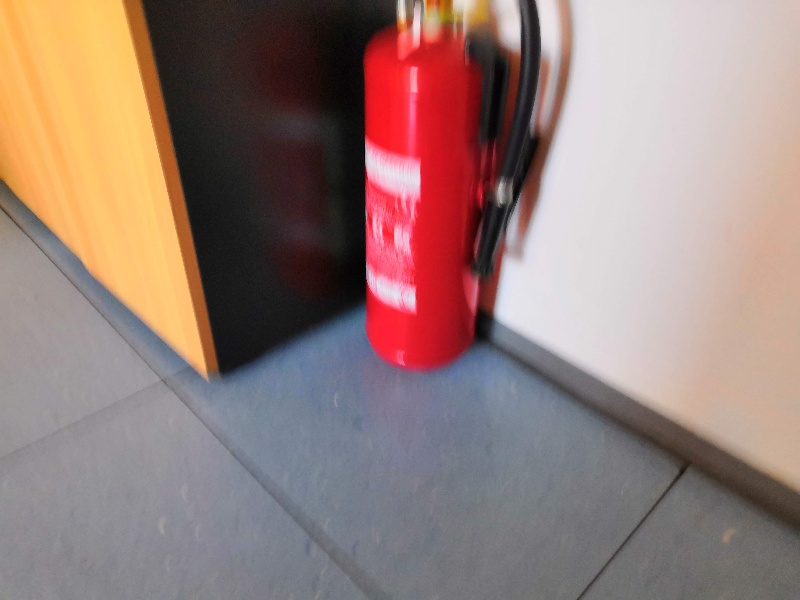vataparat: (362, 1, 540, 372)
